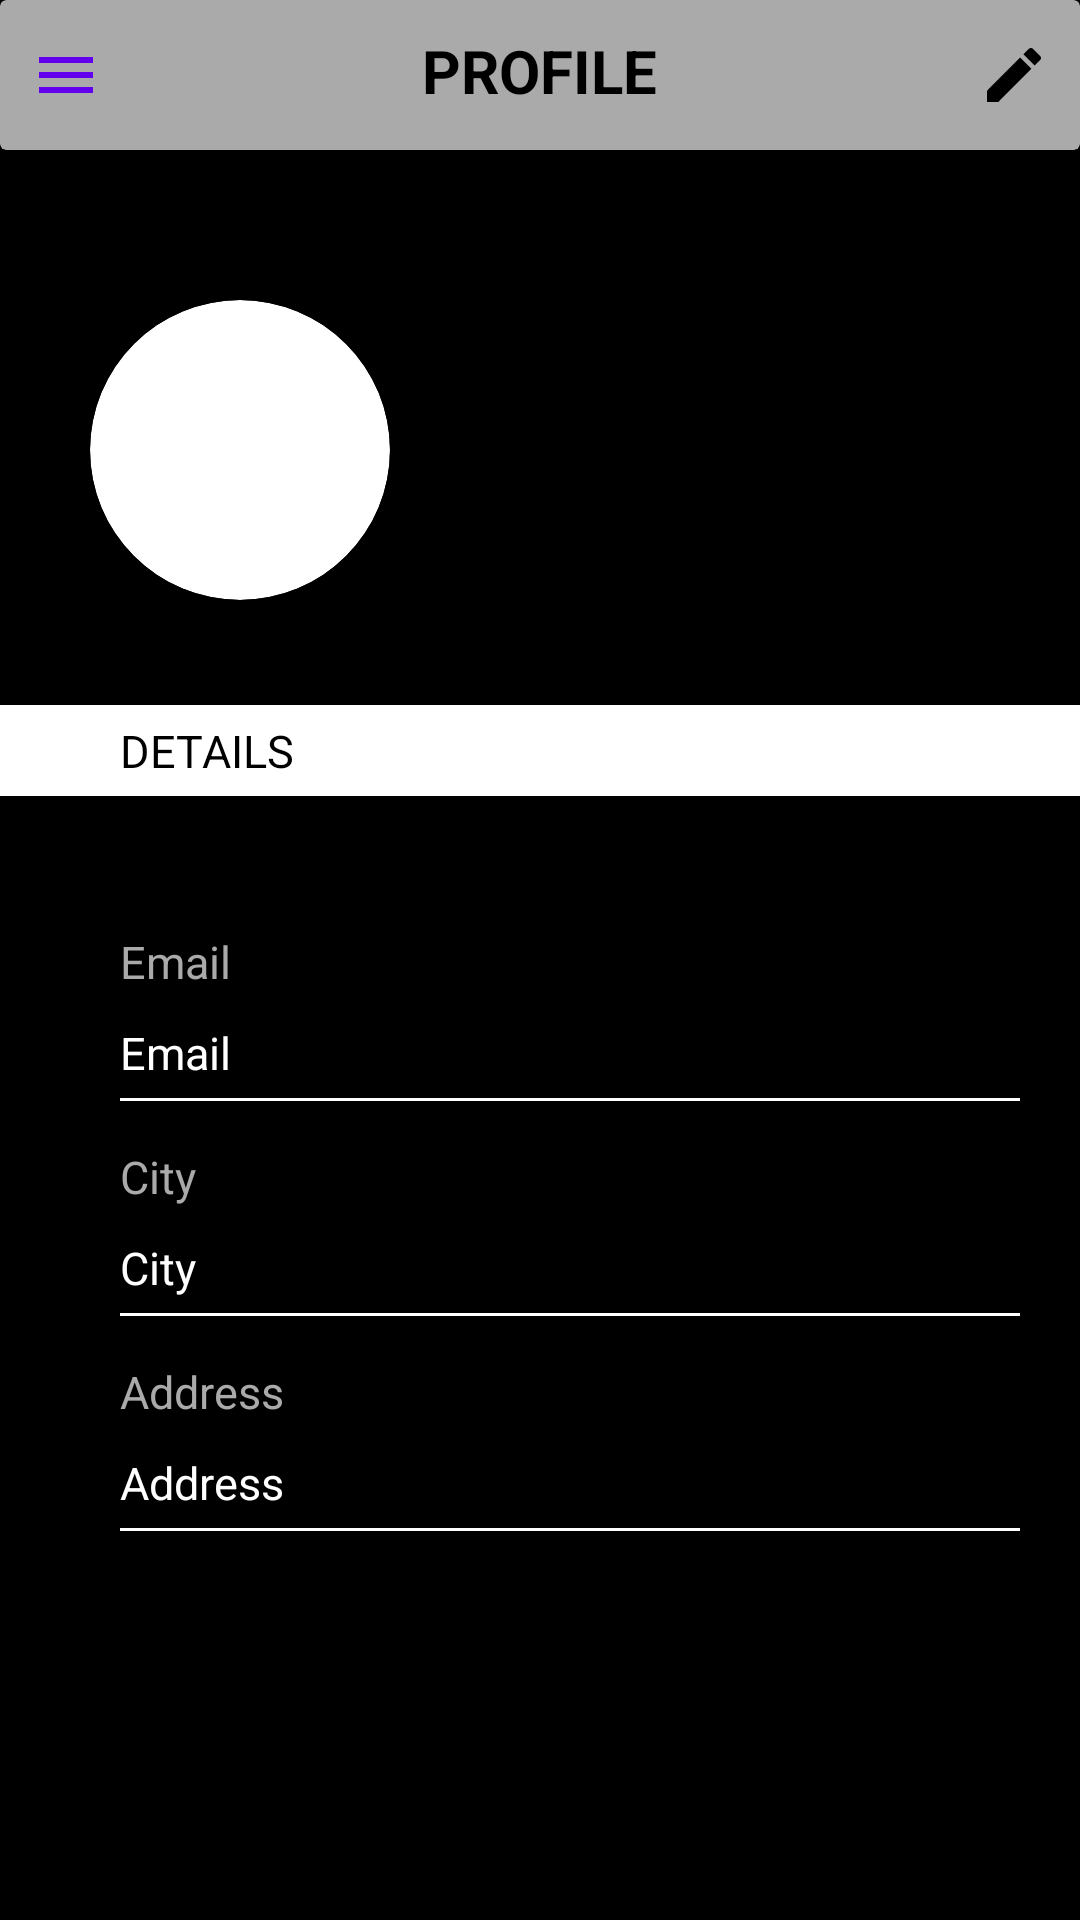

Point at icon controls on the screen. Image size 1080px x 1920px, points as point (x, y).
edit: point (1014, 75)
menu: point (66, 75)
